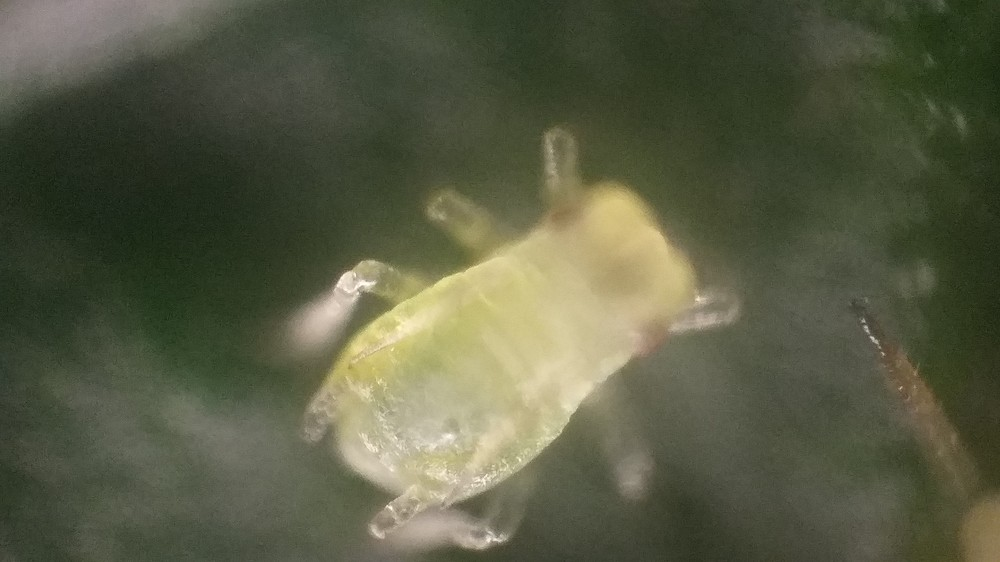Pulgon: (270, 115, 773, 558)
